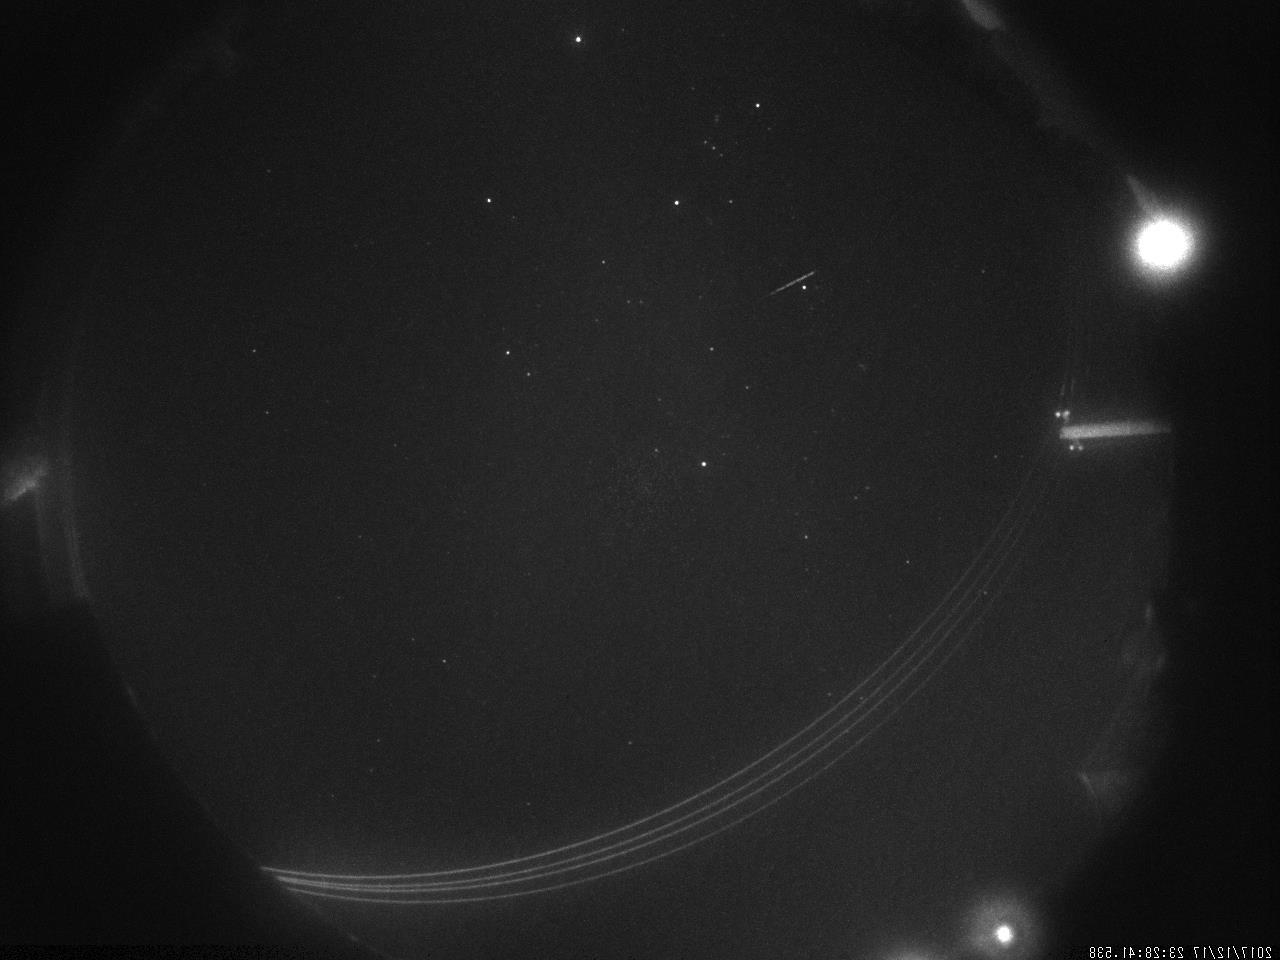meteor: (751, 258, 830, 313)
